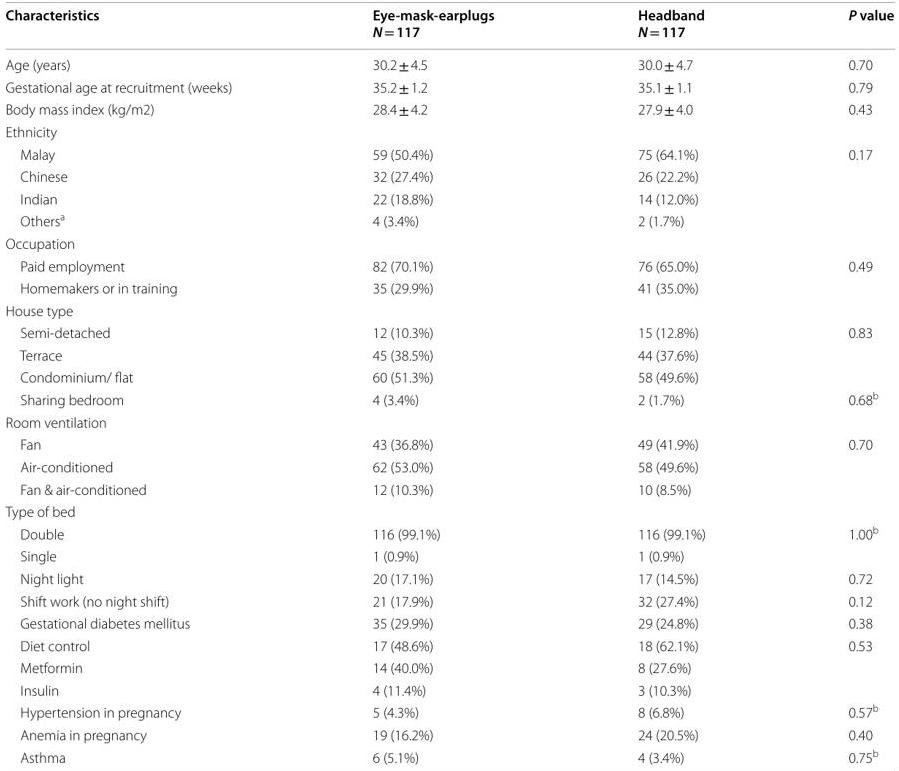table: (5, 5, 893, 765)
table column: (5, 5, 301, 765), (301, 5, 565, 765), (565, 5, 776, 765), (776, 5, 893, 765)
table column header: (5, 5, 893, 48)
table projected row header: (5, 410, 893, 433), (5, 232, 893, 254), (5, 299, 893, 321), (5, 500, 893, 521), (5, 122, 893, 142)
table row: (5, 5, 893, 48), (5, 48, 893, 76), (5, 98, 893, 122), (5, 208, 893, 232), (5, 521, 893, 545), (5, 142, 893, 165), (5, 276, 893, 299), (5, 343, 893, 366), (5, 387, 893, 410), (5, 410, 893, 433), (5, 477, 893, 500), (5, 589, 893, 612), (5, 656, 893, 679), (5, 700, 893, 723), (5, 76, 893, 98), (5, 165, 893, 187), (5, 232, 893, 254), (5, 254, 893, 276), (5, 299, 893, 321), (5, 321, 893, 343), (5, 433, 893, 455), (5, 455, 893, 477), (5, 545, 893, 567), (5, 567, 893, 589), (5, 612, 893, 634), (5, 634, 893, 656), (5, 723, 893, 745), (5, 187, 893, 208), (5, 366, 893, 387), (5, 500, 893, 521), (5, 679, 893, 700), (5, 122, 893, 142), (5, 745, 893, 765)
